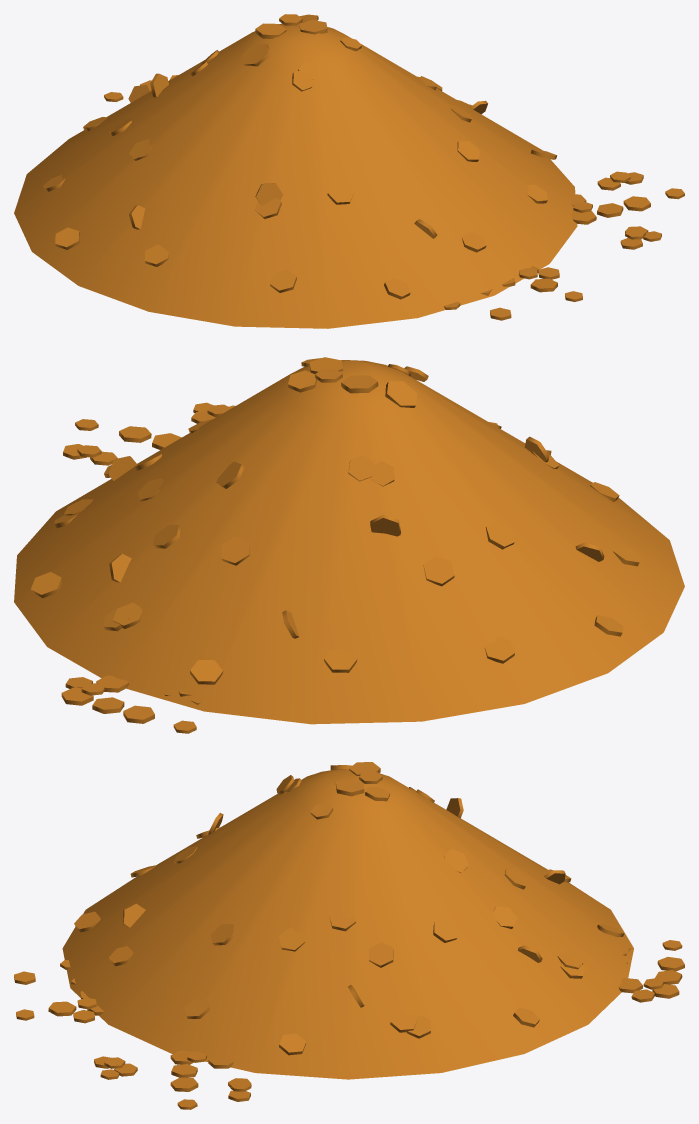
File: SM_pile_coins.fbx
3 renders of one model, top to bottom at view 1: azimuth 30°, elevation 25°; view 2: azimuth 150°, elevation 25°; view 3: azimuth 270°, elevation 25°, orthographic. The views are drawn at different scales.
Parts seen in each view (by area): view 1: Cylinder003; view 2: Cylinder003; view 3: Cylinder003.
Part boxes in pixels (x1,y1,x2,y2): Cylinder003: (14,14,684,328); Cylinder003: (14,357,684,733); Cylinder003: (14,762,684,1109).
Bounding box in the file's own units: 90.43 × 94.55 × 28.76.
